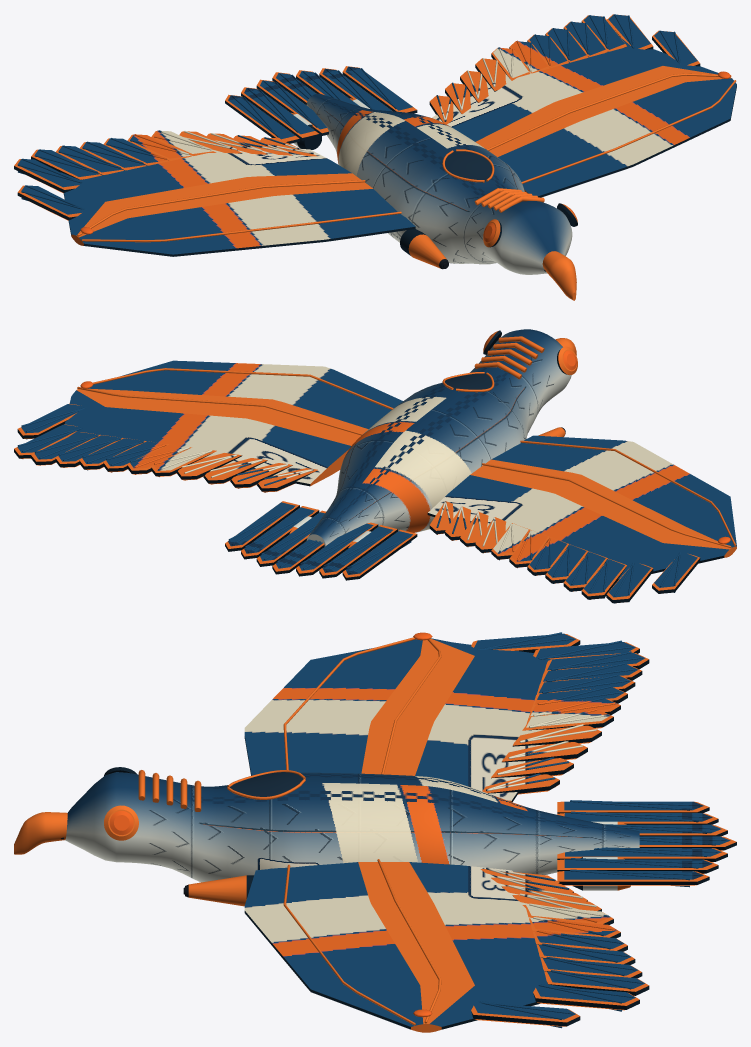
3 views of the same model, one above another, from view 1: azimuth 30°, elevation 25°; view 2: azimuth 150°, elevation 25°; view 3: azimuth 270°, elevation 25° (orthographic). The views are drawn at different scales.
Visible parts, largest first — view 1: golden_eagle_hull; view 2: golden_eagle_hull; view 3: golden_eagle_hull.
Boxes of the visible parts, <box> form: golden_eagle_hull: <box>14,14,736,300</box>; golden_eagle_hull: <box>14,329,736,603</box>; golden_eagle_hull: <box>14,632,736,1032</box>.
Size of the model in its own units: 84 by 13.1 by 66.07.
1 material, 1 textured.
